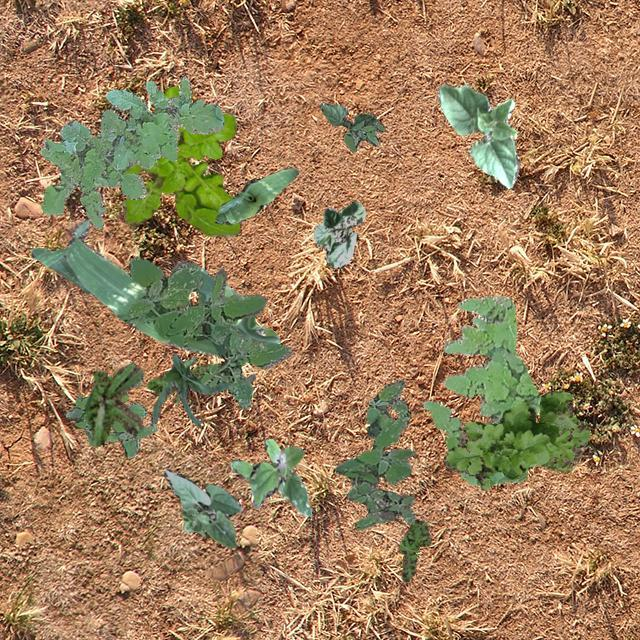crop: (30, 218, 278, 356), (436, 84, 520, 188), (148, 354, 254, 426), (162, 468, 242, 546), (214, 166, 296, 224), (314, 200, 364, 268), (318, 102, 376, 128)
weed: (39, 76, 222, 228), (122, 256, 290, 408), (422, 294, 540, 484), (120, 86, 238, 236), (442, 389, 588, 488), (334, 378, 414, 528), (65, 376, 156, 458), (230, 438, 312, 516), (84, 360, 142, 444), (146, 362, 212, 402), (398, 518, 429, 580), (342, 118, 384, 150)
